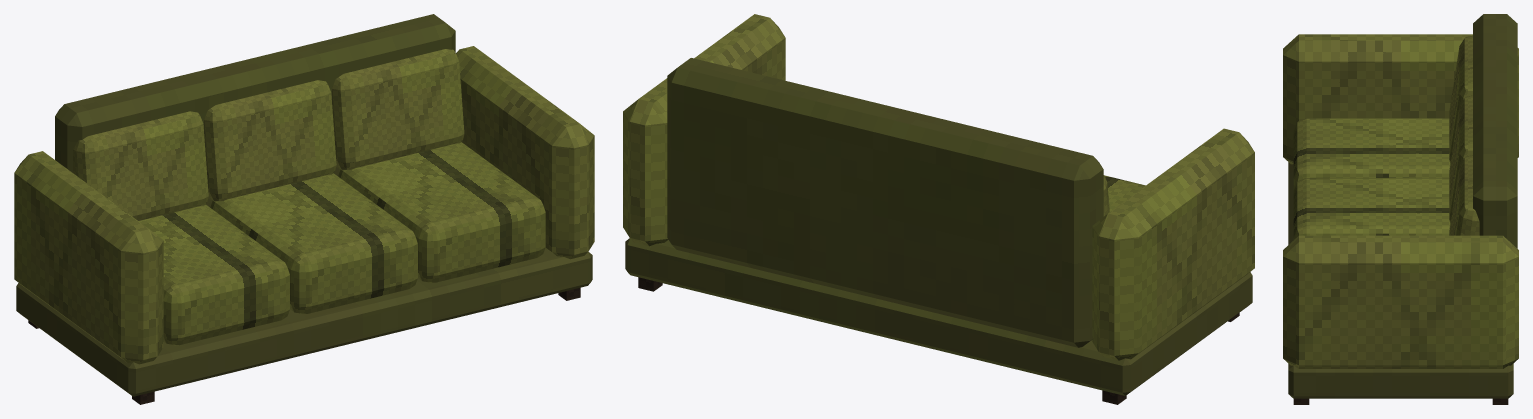
The model's file is Couch_Green.glb.
3 renders of one model, left to right at view 1: azimuth 30°, elevation 25°; view 2: azimuth 150°, elevation 25°; view 3: azimuth 270°, elevation 25°, orthographic. The views are drawn at different scales.
Visible parts, largest first — view 1: Couch_Green; view 2: Couch_Green; view 3: Couch_Green.
Boxes of the visible parts, x1=… form: Couch_Green: x1=14, y1=14, x2=594, y2=404; Couch_Green: x1=623, y1=14, x2=1254, y2=404; Couch_Green: x1=1283, y1=14, x2=1518, y2=404.
Size of the model in its own units: 2 by 0.85 by 0.9.
1 material, 1 textured.
